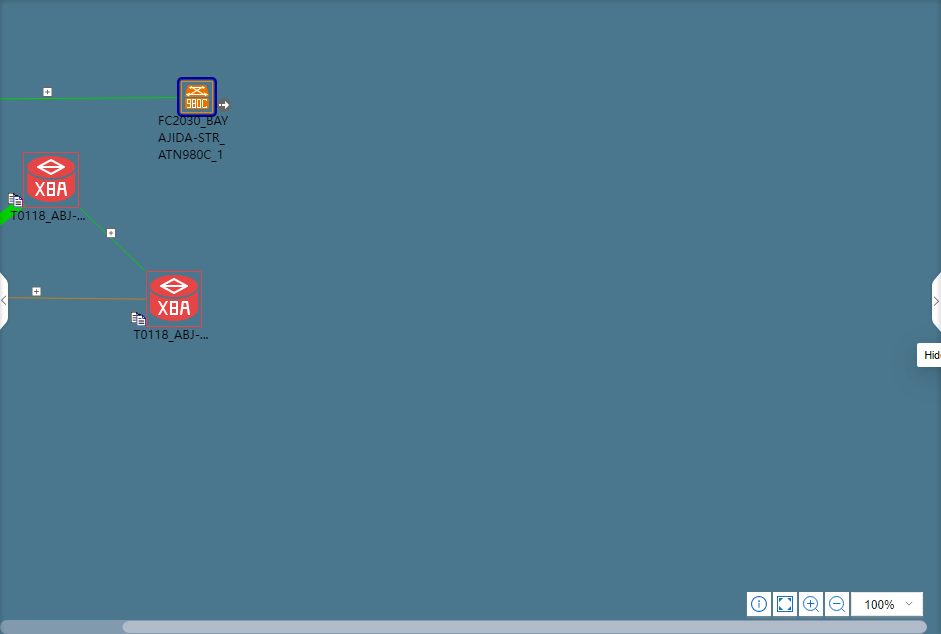ATN_Orange: (184, 84, 208, 110)
Link_Green: (79, 207, 146, 274), (0, 95, 176, 101), (0, 205, 23, 225)
Link_Orange: (8, 296, 145, 300)
Router_Red: (146, 271, 201, 327), (24, 153, 77, 204)
